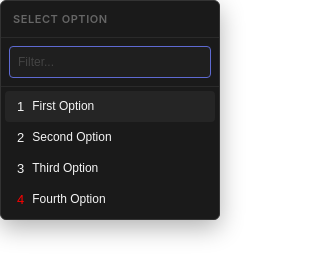
Test: PropertyPicker › shows "No options found" when no matches
The width and height of the screenshot is (320, 258).
Type "nonexistent" into the field with placeholder "Filter..." at (110, 62), box [9,46,211,78]
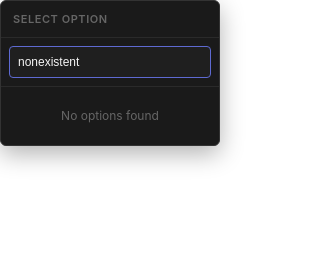
Check: the text "No options found" is shown, box [61,108,159,122]
